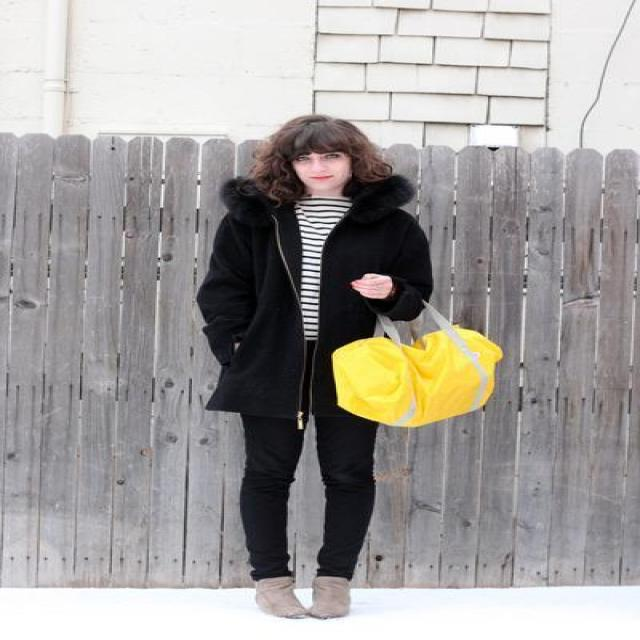bag: (331, 296, 501, 426)
jacket: (197, 172, 432, 428)
pants: (236, 404, 378, 580)
shirt: (296, 186, 350, 289)
shoe: (230, 559, 372, 619)
